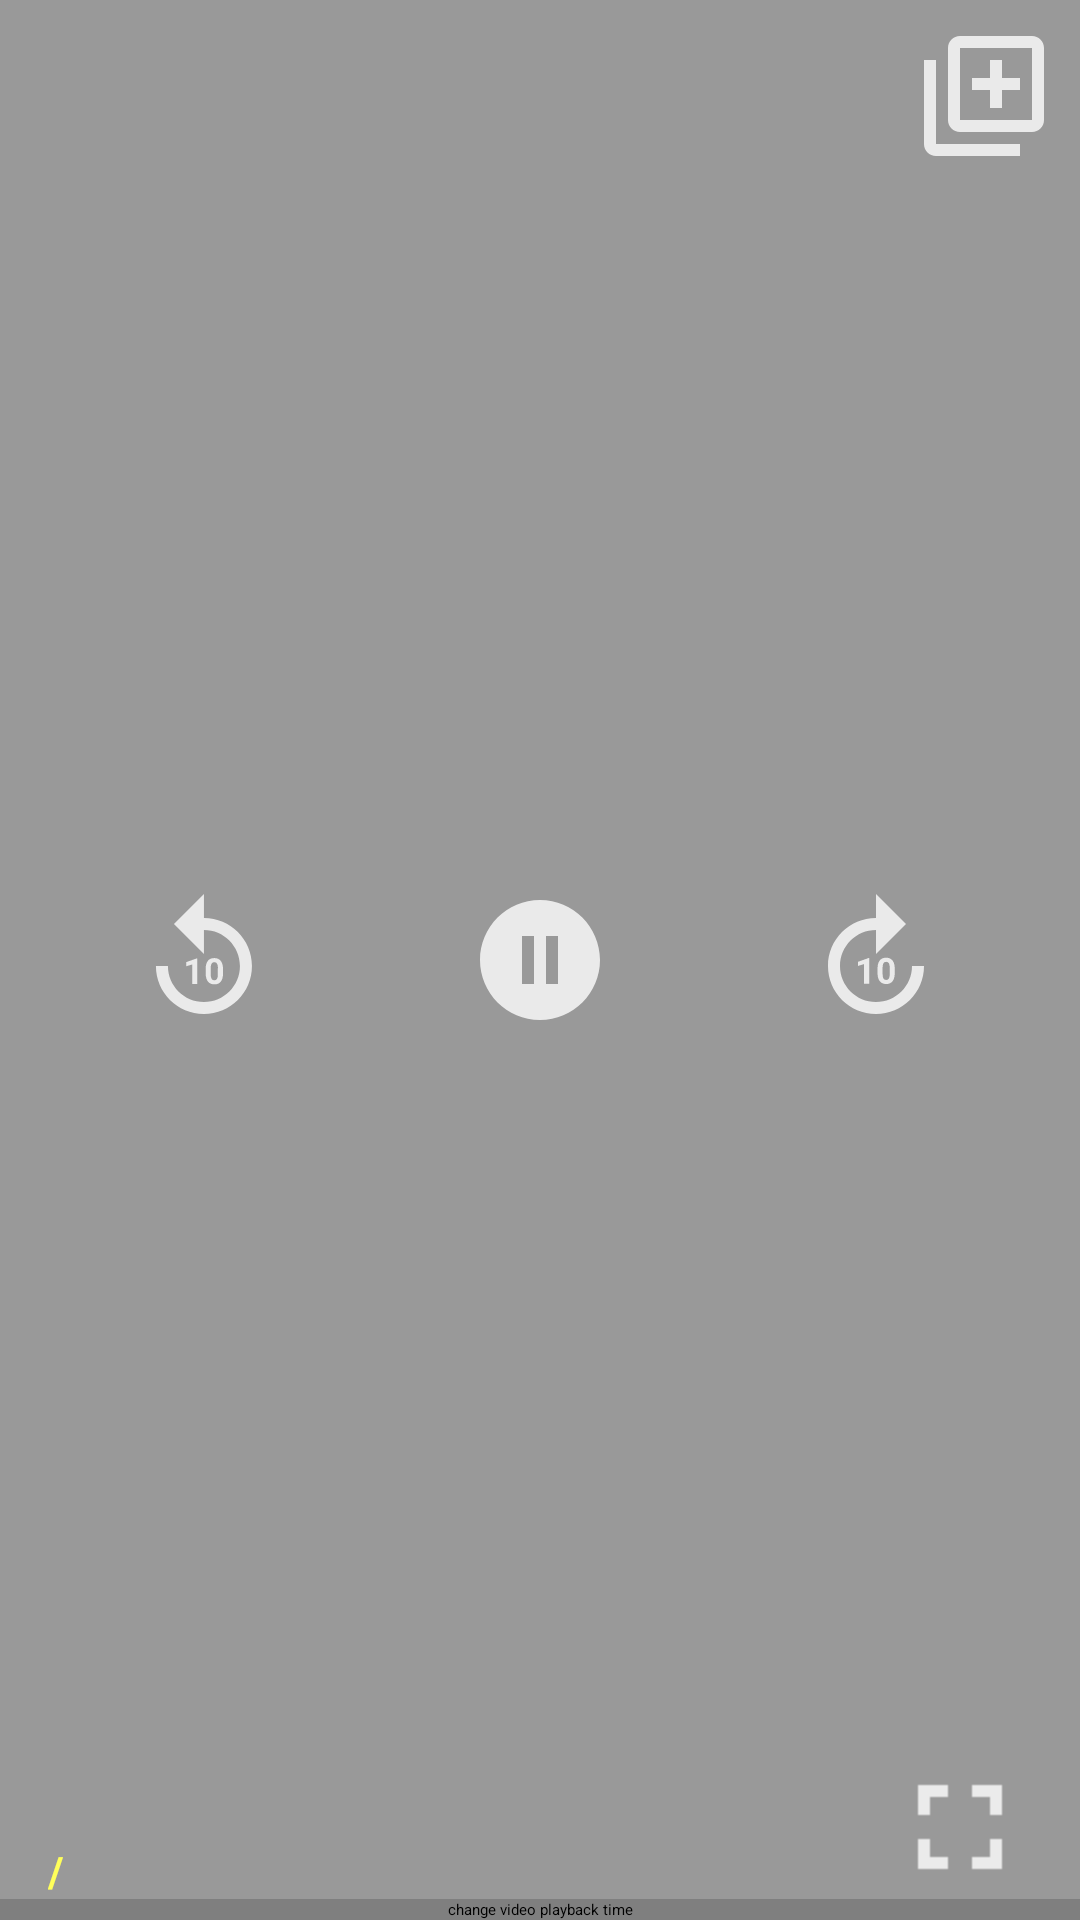

Where to tap for icons on this 1080px x 1920px app screen, as point (x, y):
add to watchlater: point (984, 96)
forward 10 seconds: point (876, 954)
open video in Fullscreen: point (960, 1827)
Pause or play video: point (540, 960)
Rewind 10 seconds: point (204, 954)
